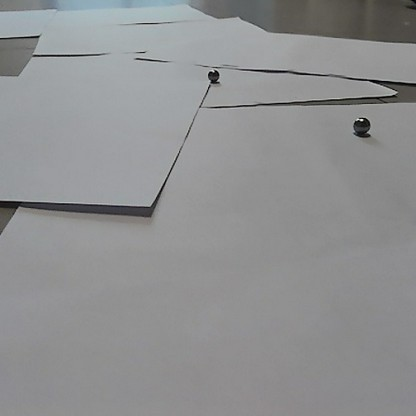ironball: (350, 112, 371, 136), (204, 67, 219, 81)
